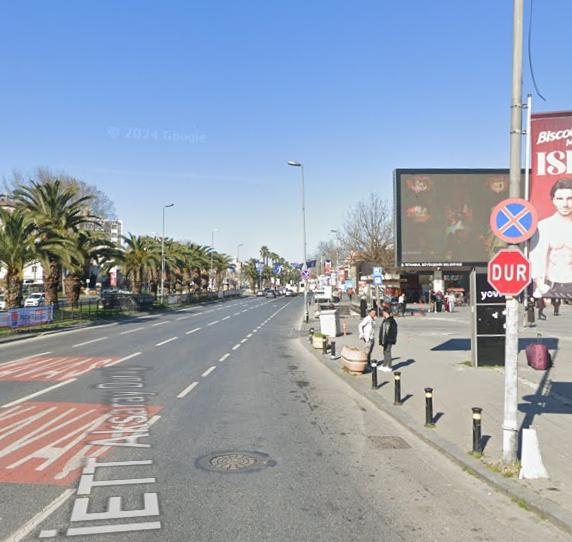stop: (487, 249, 532, 296)
